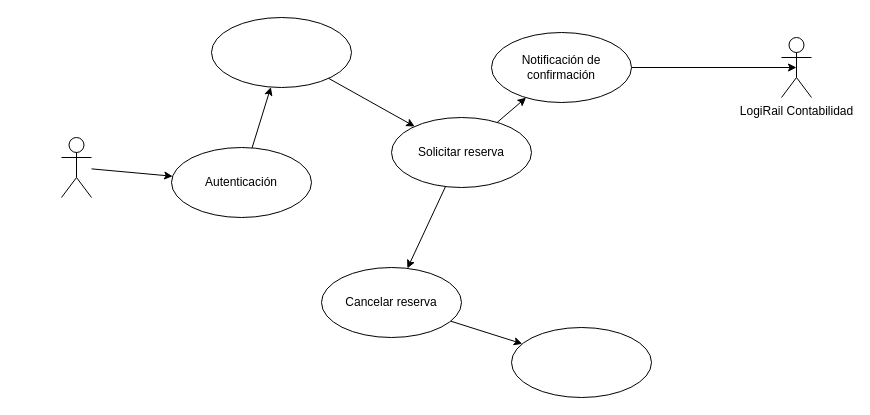
This 870x415 diagram has some shape labels left out. Here are the shapes that lost their labels. From the top down, the box of each, then its label:
(210, 16, 352, 88): Consultar estancias
(60, 136, 92, 198): Empleado desplazado
(510, 326, 652, 398): Notificación de cancelación
